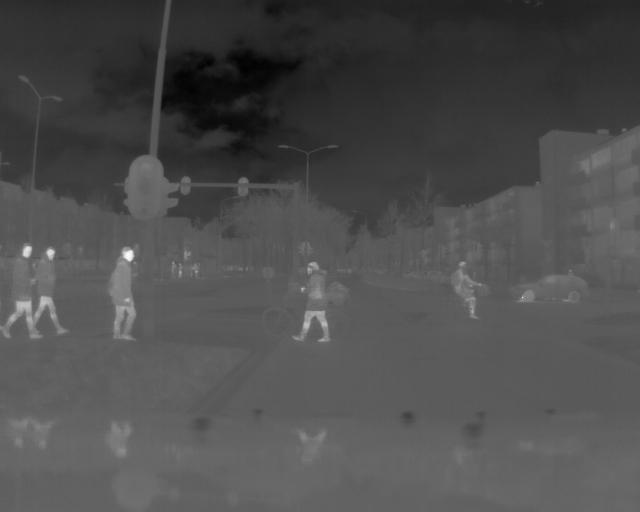car: (510, 269, 593, 308)
person: (287, 257, 334, 345), (37, 234, 74, 343), (1, 244, 37, 350), (104, 243, 140, 342), (443, 253, 487, 324), (169, 258, 177, 281), (178, 259, 184, 278)
